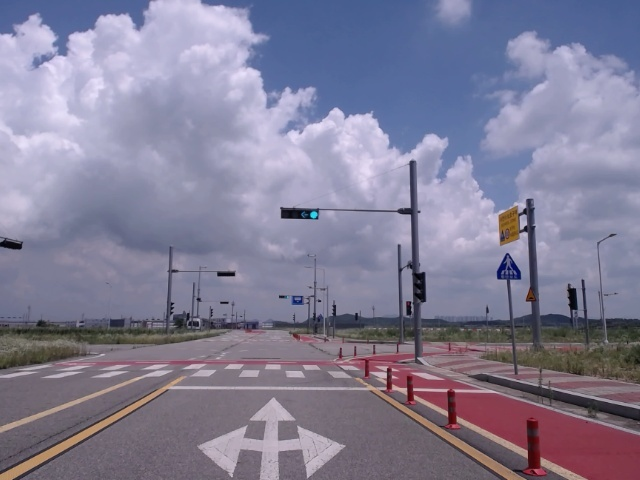all_green_4: (281, 207, 320, 221)
